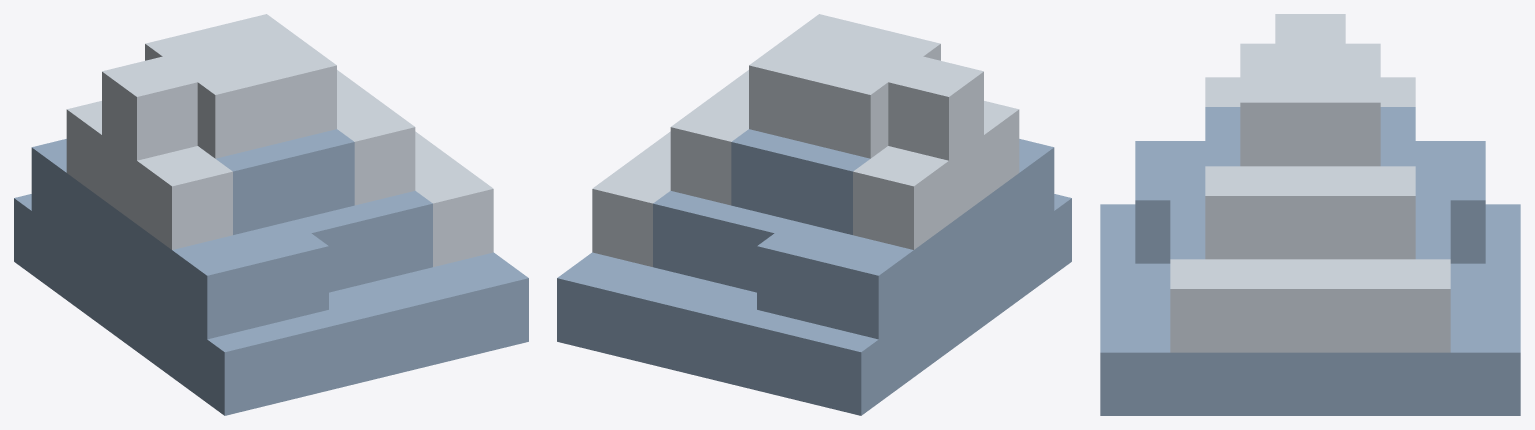
Rendered from stone-with-snow-01.glb.
3 renders of one model, left to right at view 1: azimuth 30°, elevation 25°; view 2: azimuth 150°, elevation 25°; view 3: azimuth 270°, elevation 25°, orthographic.
Visible parts, largest first — view 1: generated(Clone); view 2: generated(Clone); view 3: generated(Clone).
Part boxes in pixels (x1,y1,x2,y2): generated(Clone): (14,14,528,415); generated(Clone): (557,14,1071,415); generated(Clone): (1100,14,1520,415).
Bounding box in the file's own units: 5 × 4 × 6.
Materials: 1 (1 with a texture image).
